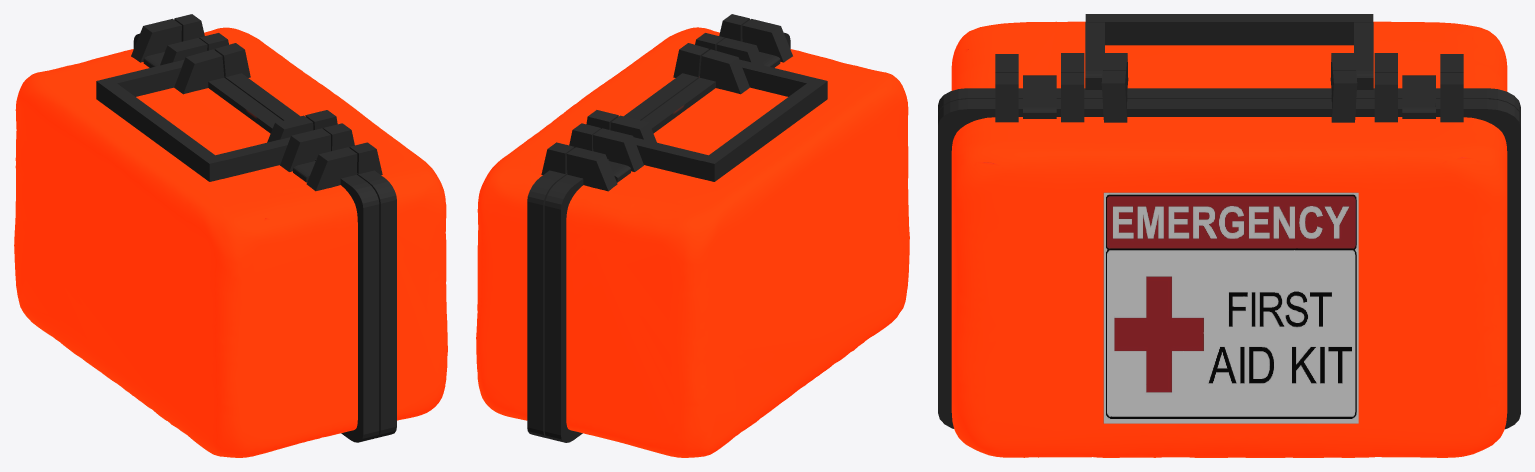
The model's file is MedKit.fbx.
3 views of the same model, side by side, from view 1: azimuth 30°, elevation 25°; view 2: azimuth 150°, elevation 25°; view 3: azimuth 270°, elevation 25° (orthographic). The views are drawn at different scales.
Parts seen in each view (by area): view 1: MedKit; view 2: MedKit; view 3: MedKit.
Part boxes in pixels (x1=…): MedKit: x1=14, y1=14, x2=447, y2=457; MedKit: x1=476, y1=14, x2=909, y2=457; MedKit: x1=938, y1=14, x2=1520, y2=457.
Size of the model in its own units: 198 by 229 by 344.
